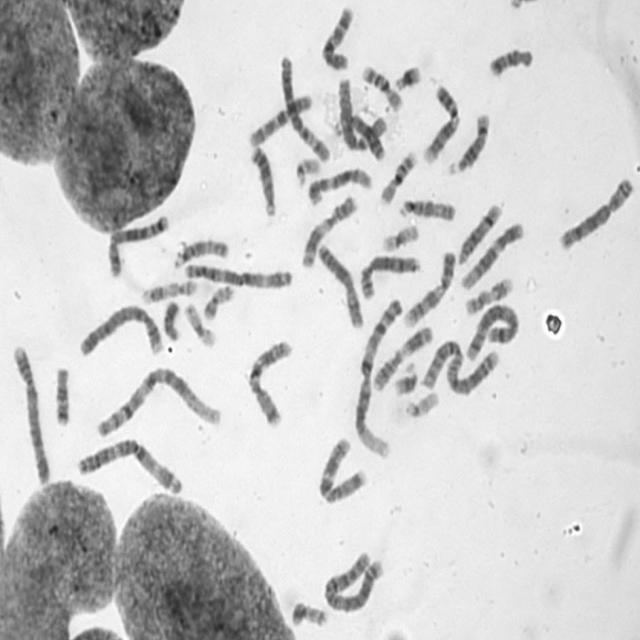A1: (93, 360, 224, 440), (353, 294, 406, 460)
A2: (419, 336, 500, 396), (319, 546, 386, 615)
A3: (74, 432, 185, 496), (181, 256, 295, 290)
B4: (9, 338, 53, 485), (76, 298, 165, 359)
B5: (105, 209, 172, 279), (462, 297, 522, 363)
C10: (243, 88, 315, 149), (318, 0, 356, 72)
C11: (369, 319, 437, 393), (298, 189, 360, 269)
C12: (458, 216, 526, 292), (304, 162, 374, 206)
C6: (275, 50, 331, 164), (334, 72, 386, 162)
C7: (244, 334, 294, 429), (315, 431, 370, 505)
C8: (555, 172, 636, 252), (358, 248, 422, 300)
C9: (401, 246, 457, 328), (419, 78, 462, 166)
D13: (327, 112, 384, 164), (246, 140, 278, 218)
D14: (454, 198, 504, 267), (444, 106, 492, 177)
D15: (170, 233, 231, 269), (396, 192, 458, 223)
E16: (377, 145, 419, 206), (358, 59, 404, 112)
E17: (460, 270, 516, 316), (138, 274, 199, 304)
E18: (485, 41, 536, 79), (51, 360, 73, 428)
F19: (181, 297, 218, 349), (379, 219, 421, 253)
F20: (200, 279, 236, 321), (288, 596, 330, 629)
G21: (391, 356, 420, 397), (391, 58, 424, 92)
G22: (401, 386, 441, 419), (291, 151, 323, 187)
X: (314, 238, 366, 330)
Y: (160, 294, 183, 342)
